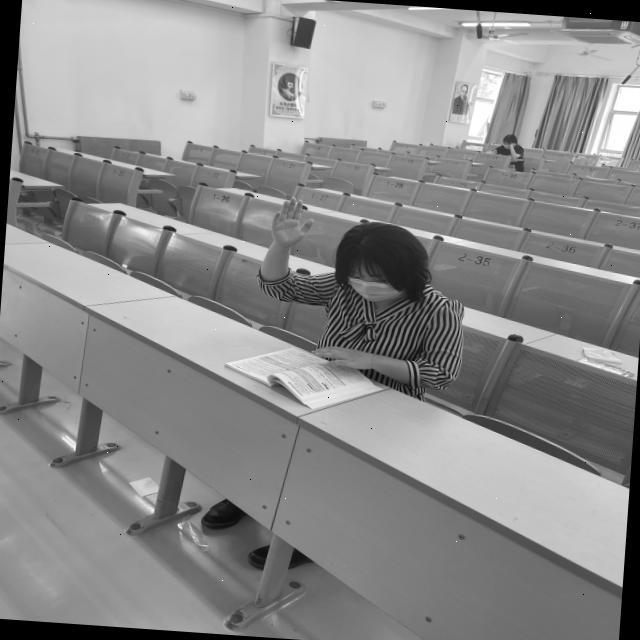study: (239, 187, 476, 418)
